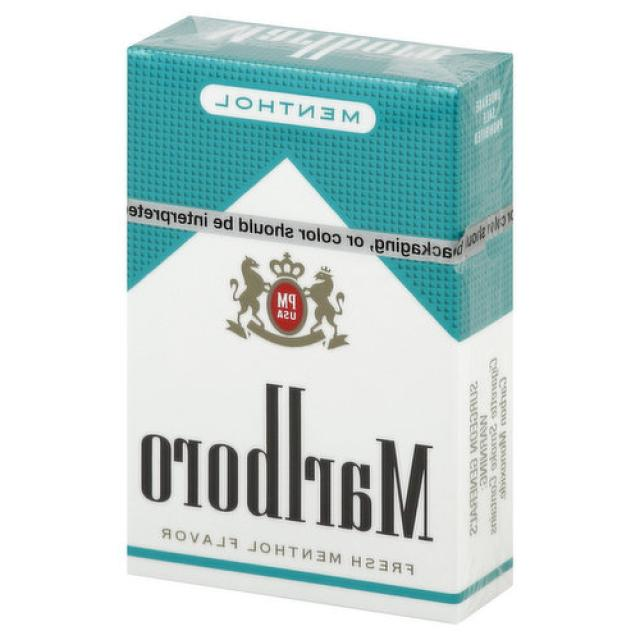marlboro: (112, 10, 534, 640)
